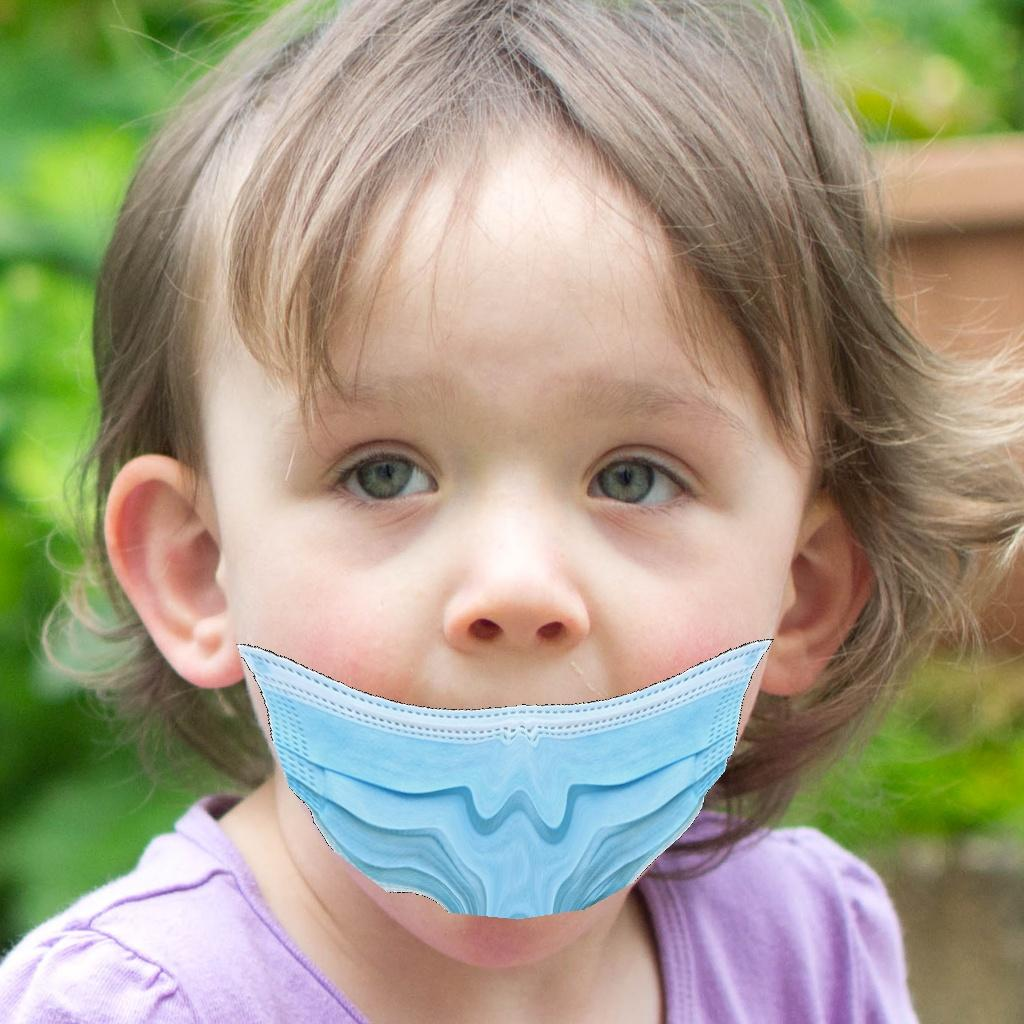Máscara Incorreta: (187, 299, 800, 949)
